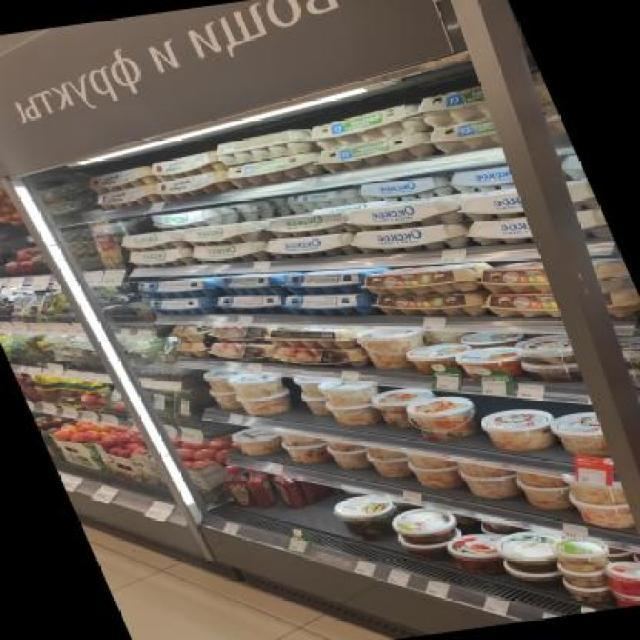Egg: (303, 101, 436, 150), (361, 256, 496, 302), (367, 282, 500, 325), (312, 130, 442, 173), (352, 218, 476, 260), (342, 195, 466, 236), (385, 505, 471, 564), (490, 531, 576, 590), (278, 261, 392, 302), (476, 404, 565, 454), (312, 374, 394, 428), (403, 393, 486, 442), (219, 150, 326, 188), (326, 493, 408, 542), (368, 386, 451, 434), (354, 323, 434, 372), (261, 227, 365, 264), (229, 370, 303, 418), (282, 285, 376, 322), (356, 173, 456, 206), (262, 208, 358, 242), (183, 218, 278, 249), (148, 204, 240, 234), (509, 332, 584, 368), (140, 272, 224, 304), (455, 345, 530, 380), (188, 238, 272, 269), (404, 339, 478, 374), (151, 170, 232, 201), (143, 291, 222, 322), (218, 269, 292, 302), (214, 288, 292, 319), (149, 151, 226, 182), (115, 227, 192, 254), (84, 166, 158, 194), (91, 184, 164, 211), (218, 467, 262, 511), (241, 467, 285, 511), (124, 245, 198, 271), (447, 165, 516, 192)
